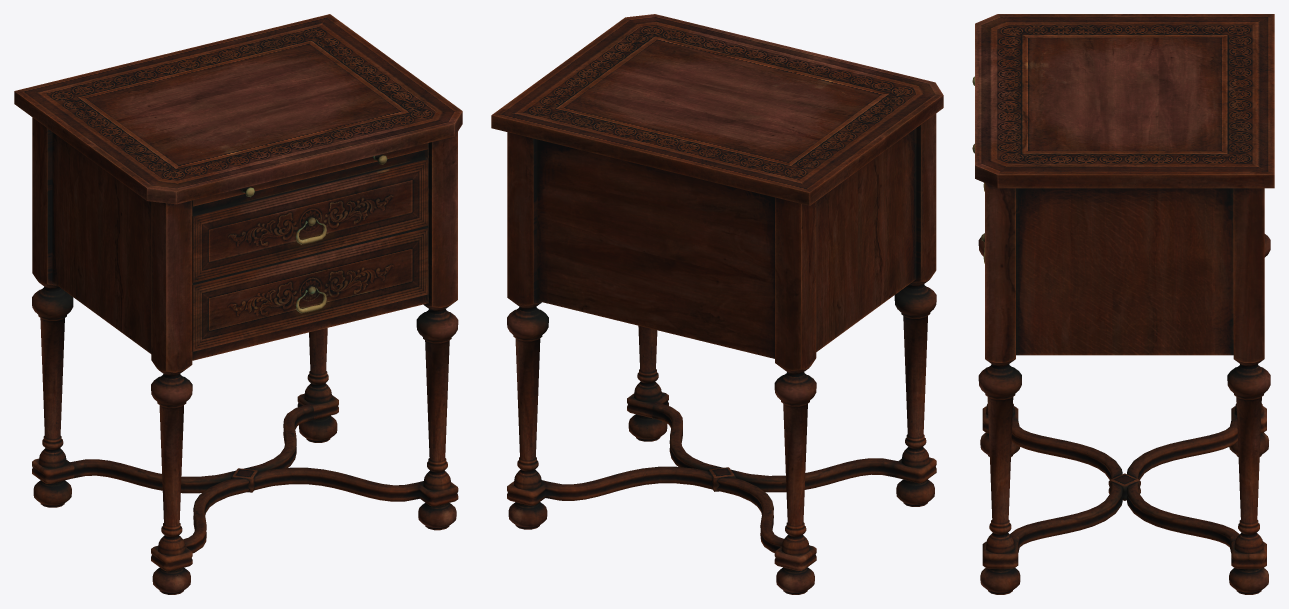
Rendered from old_table.obj.
The picture shows the model from 3 angles, left to right: view 1: azimuth 30°, elevation 25°; view 2: azimuth 150°, elevation 25°; view 3: azimuth 270°, elevation 25°; orthographic projection. The views are drawn at different scales.
Parts seen in each view (by area): view 1: obj1; view 2: obj1; view 3: obj1.
Boxes of the visible parts, x1,y1,x2,y2 form: obj1: [14, 14, 462, 594]; obj1: [491, 14, 943, 594]; obj1: [972, 14, 1274, 594].
Bounding box in the file's own units: 0.61 × 0.7551 × 0.4841.
Materials: 1 (1 with a texture image).
